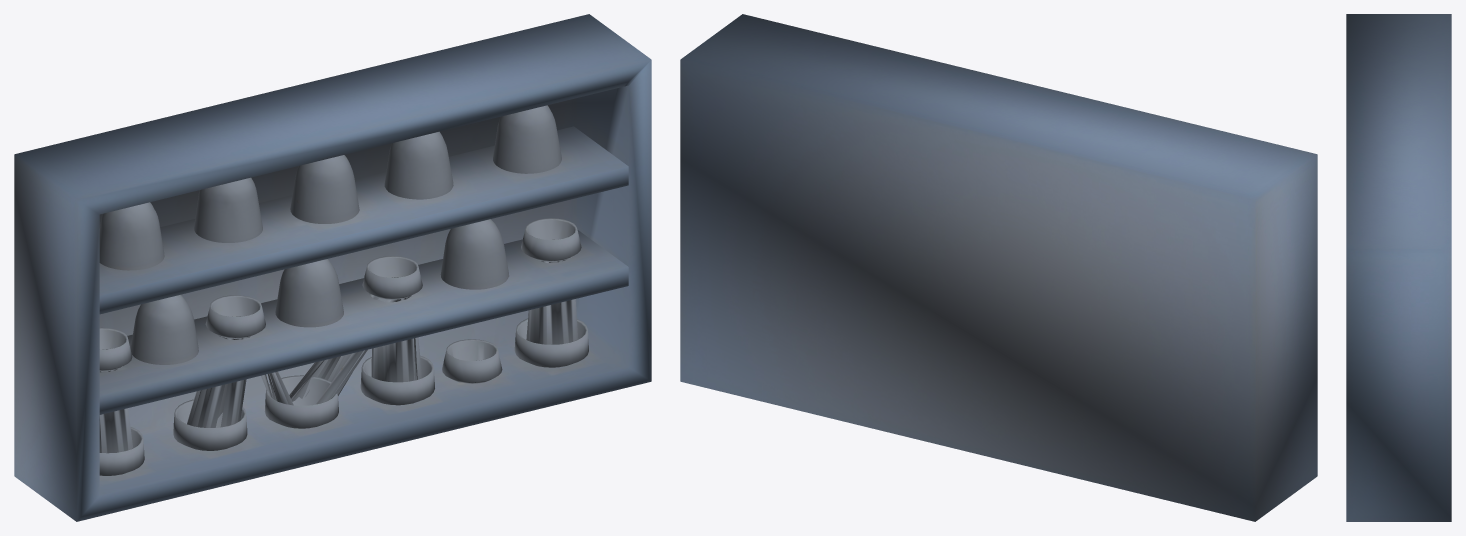
File: window.glb
3 views of the same model, side by side, from view 1: azimuth 30°, elevation 25°; view 2: azimuth 150°, elevation 25°; view 3: azimuth 270°, elevation 25° (orthographic). The views are drawn at different scales.
Parts seen in each view (by area): view 1: tripo_node_c703ad39-8502-43fa-9426-454e01bab1d7; view 2: tripo_node_c703ad39-8502-43fa-9426-454e01bab1d7; view 3: tripo_node_c703ad39-8502-43fa-9426-454e01bab1d7.
Boxes of the visible parts, x1,y1,x2,y2 form: tripo_node_c703ad39-8502-43fa-9426-454e01bab1d7: [14, 14, 651, 521]; tripo_node_c703ad39-8502-43fa-9426-454e01bab1d7: [680, 14, 1317, 521]; tripo_node_c703ad39-8502-43fa-9426-454e01bab1d7: [1346, 14, 1451, 521].
Size of the model in its own units: 0.9995 by 0.5347 by 0.188.
1 material, 1 textured.
